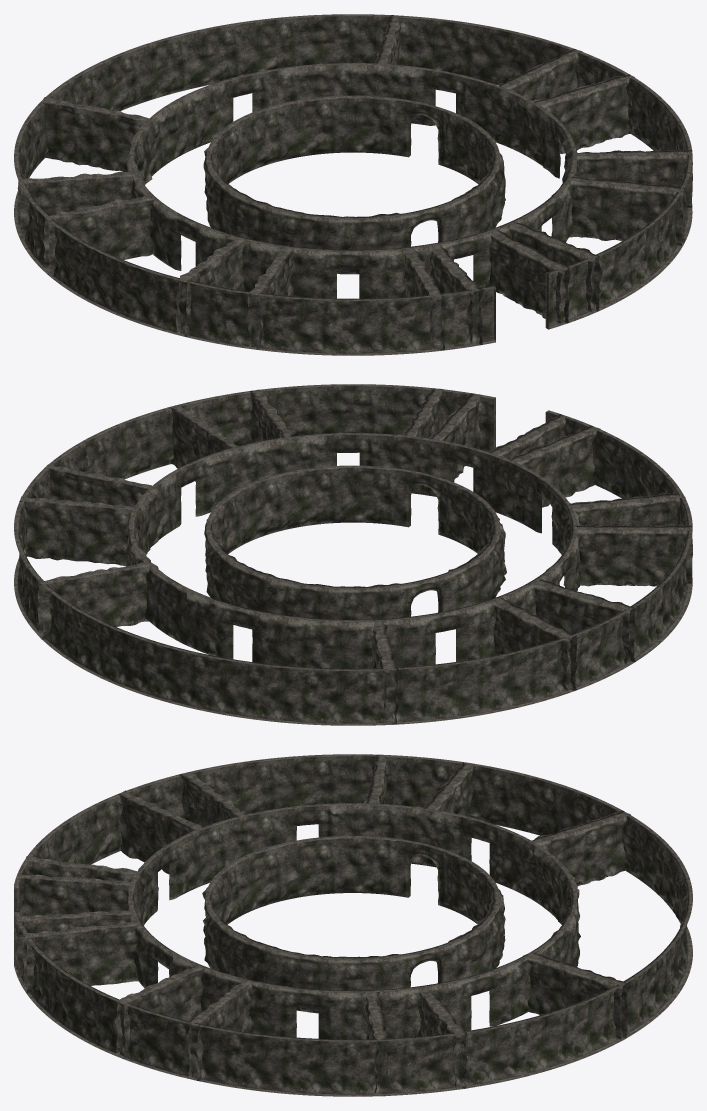
The model's file is underground_wall.fbx.
3 renders of one model, top to bottom at view 1: azimuth 30°, elevation 25°; view 2: azimuth 150°, elevation 25°; view 3: azimuth 270°, elevation 25°, orthographic.
Visible parts, largest first — view 1: underground_wall_04, underground_wall_02, underground_wall_01, wall_03, wall_08, wall_10, wall_05, wall_01, wall_09, wall_04, wall_11, wall_06 (+5 smaller); view 2: underground_wall_04, underground_wall_02, underground_wall_01, wall_11, wall_06, wall_07, wall_10, wall_13, wall_09, wall_12, wall_05, wall_04 (+5 smaller); view 3: underground_wall_04, underground_wall_02, underground_wall_01, wall_02, wall_08, wall_07, wall_14, wall_03, wall_12, wall_04, wall_01, wall_11 (+5 smaller).
Boxes of the visible parts, x1,y1,x2,y2 form: underground_wall_04: [14, 14, 692, 355]; underground_wall_02: [126, 63, 580, 298]; underground_wall_01: [203, 95, 505, 274]; wall_03: [569, 176, 685, 247]; wall_08: [39, 97, 149, 171]; wall_10: [43, 195, 153, 275]; wall_05: [532, 74, 634, 154]; wall_01: [489, 229, 570, 325]; wall_09: [17, 171, 135, 240]; wall_04: [575, 149, 692, 209]; wall_11: [175, 238, 245, 336]; wall_06: [498, 48, 582, 100]; underground_wall_04: [14, 384, 692, 725]; underground_wall_02: [125, 433, 580, 668]; underground_wall_01: [204, 465, 506, 619]; wall_11: [576, 525, 692, 586]; wall_06: [19, 496, 134, 565]; wall_07: [37, 562, 149, 639]; wall_10: [532, 579, 636, 666]; wall_13: [510, 425, 600, 507]; wall_09: [493, 597, 577, 692]; wall_12: [569, 493, 685, 526]; wall_05: [44, 464, 151, 506]; wall_04: [167, 405, 237, 481]; underground_wall_04: [14, 754, 692, 1096]; underground_wall_02: [127, 803, 580, 1039]; underground_wall_01: [202, 836, 505, 1013]; wall_02: [22, 922, 138, 993]; wall_08: [532, 810, 630, 885]; wall_07: [527, 953, 628, 1041]; wall_14: [15, 874, 131, 916]; wall_03: [114, 966, 204, 1058]; wall_12: [118, 790, 202, 874]; wall_04: [187, 981, 253, 1081]; wall_01: [15, 910, 132, 976]; wall_11: [179, 772, 244, 827].
Bounding box in the file's own units: 3703 × 341 × 3696.
Materials: 1 (1 with a texture image).
